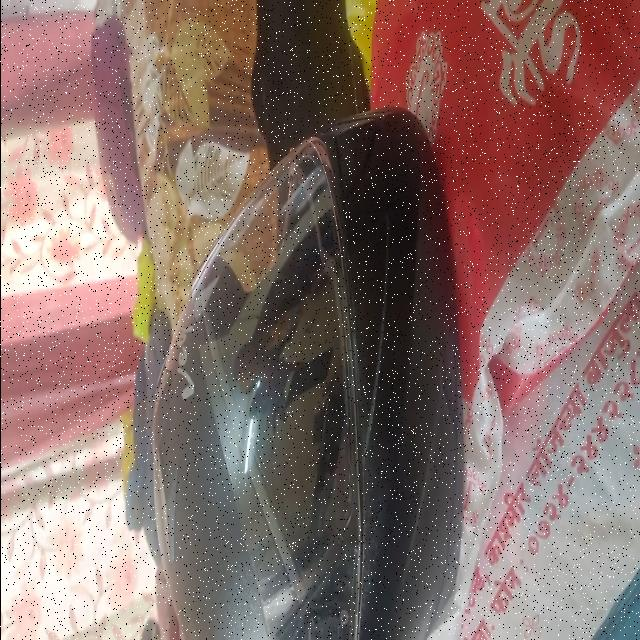Helmet: (126, 105, 469, 640)
